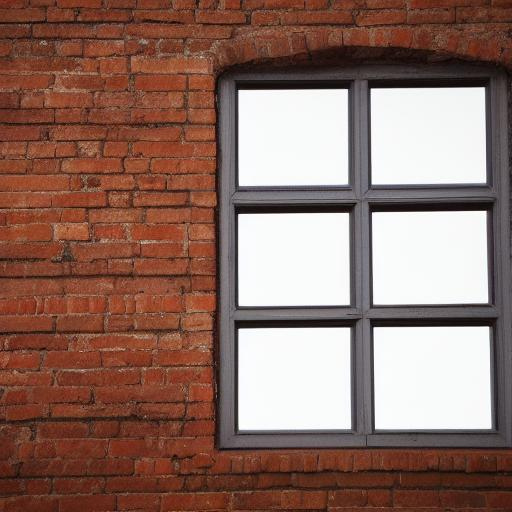Window: (214, 33, 511, 474)
